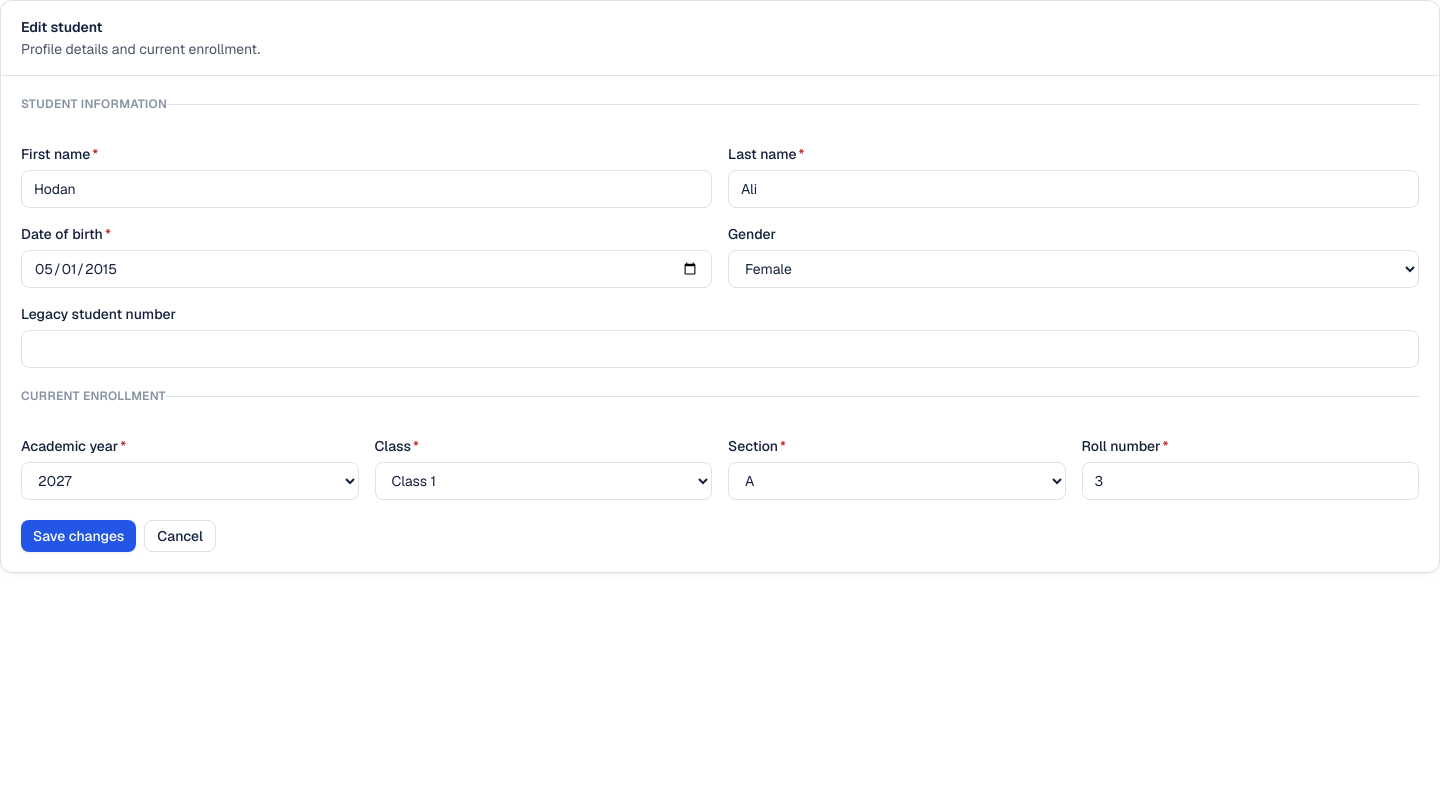
EditStudentForm — submit › submits the updated profile and enrollment, and reports success
The width and height of the screenshot is (1440, 810).
Replace the text in the field showing "Hodan" below "First name" with "Amina" at (366,189), box [21,170,712,208]
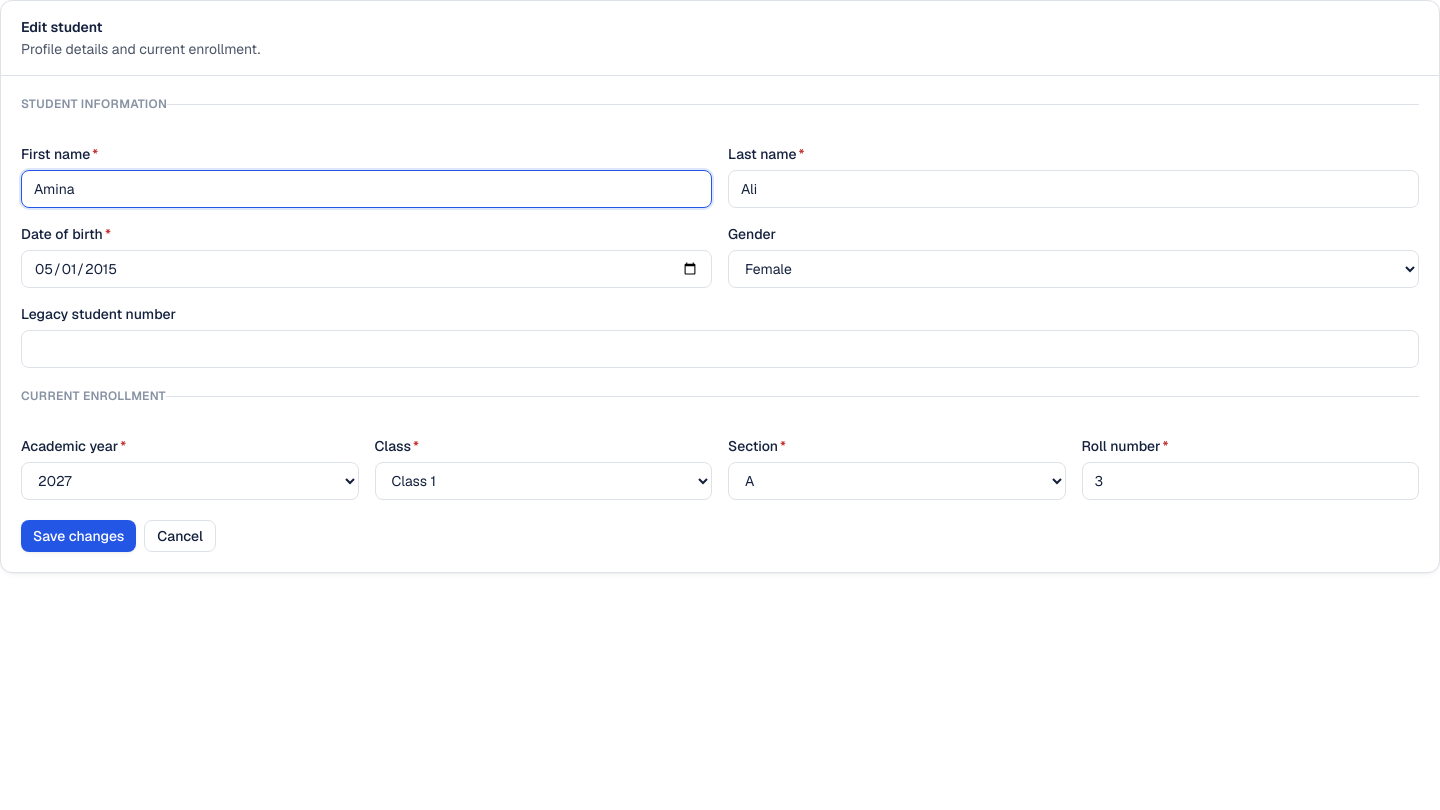
Click the button "Save changes" at (79,536), box [21,520,136,552]
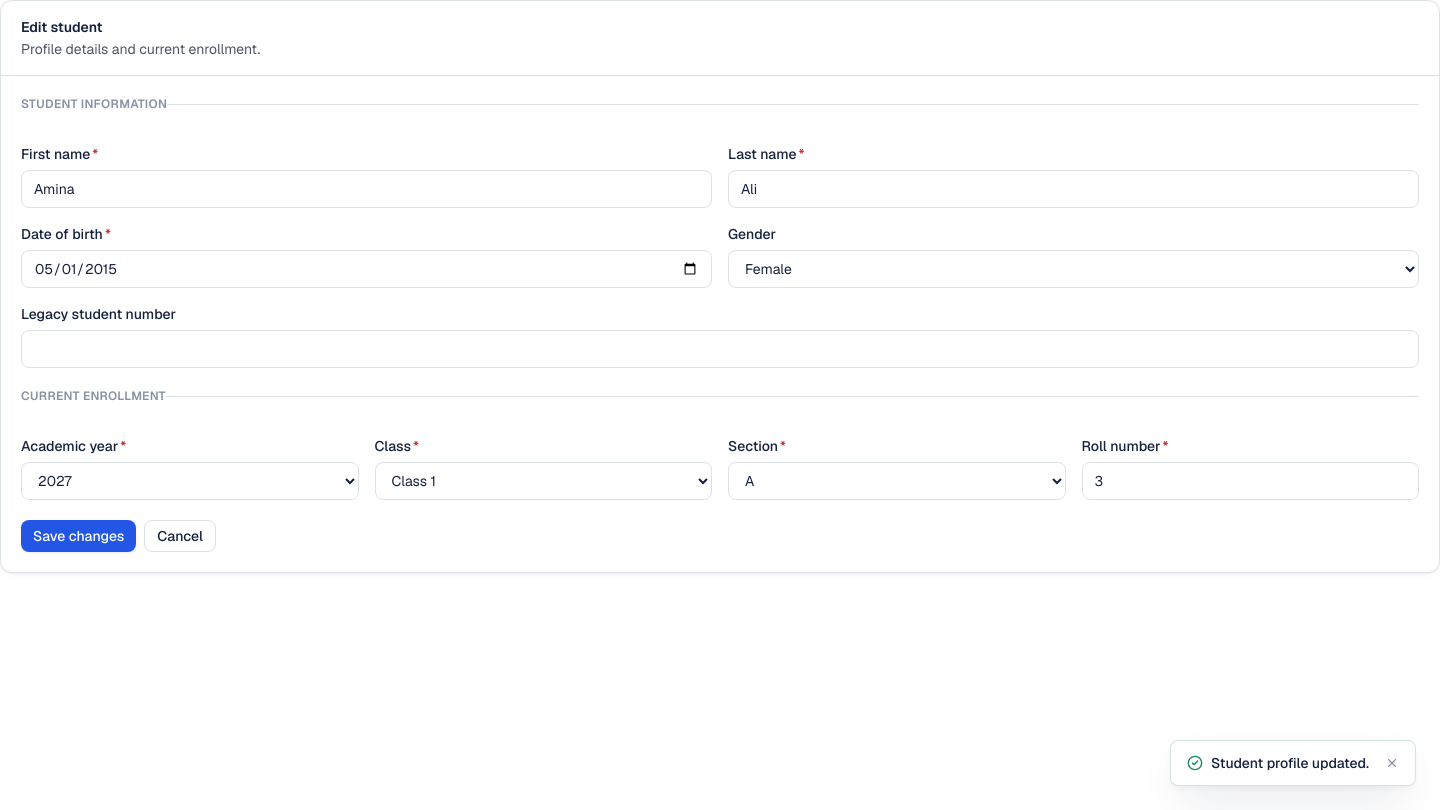
expect the text "Student profile updated." is shown: met, box [1211,753,1369,773]
